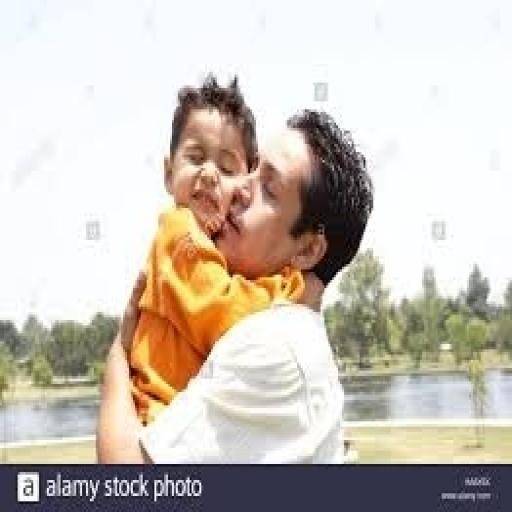hugging: (94, 72, 375, 464)
